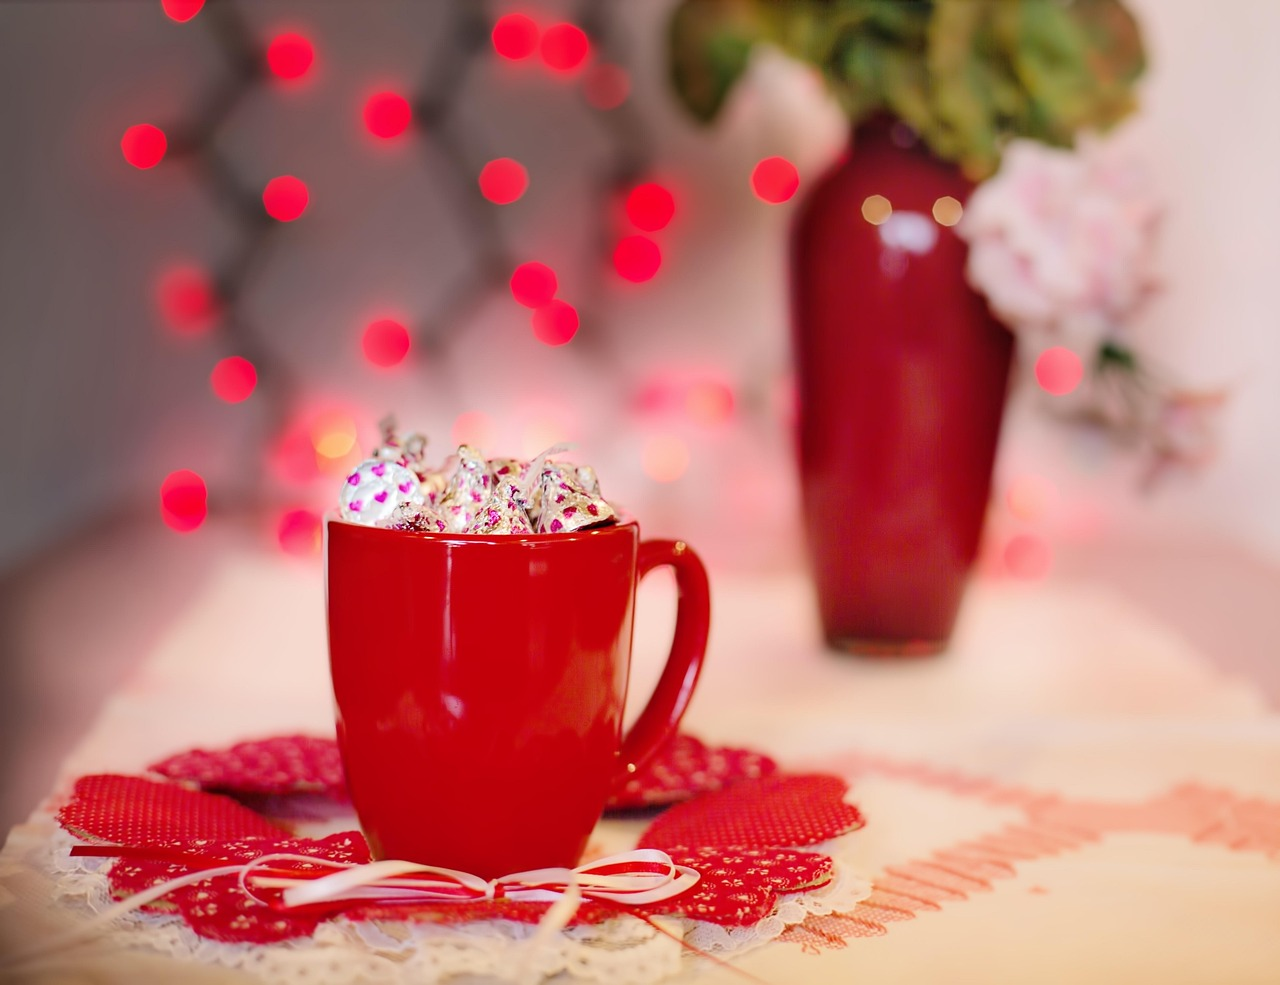mug: (270, 441, 724, 917)
